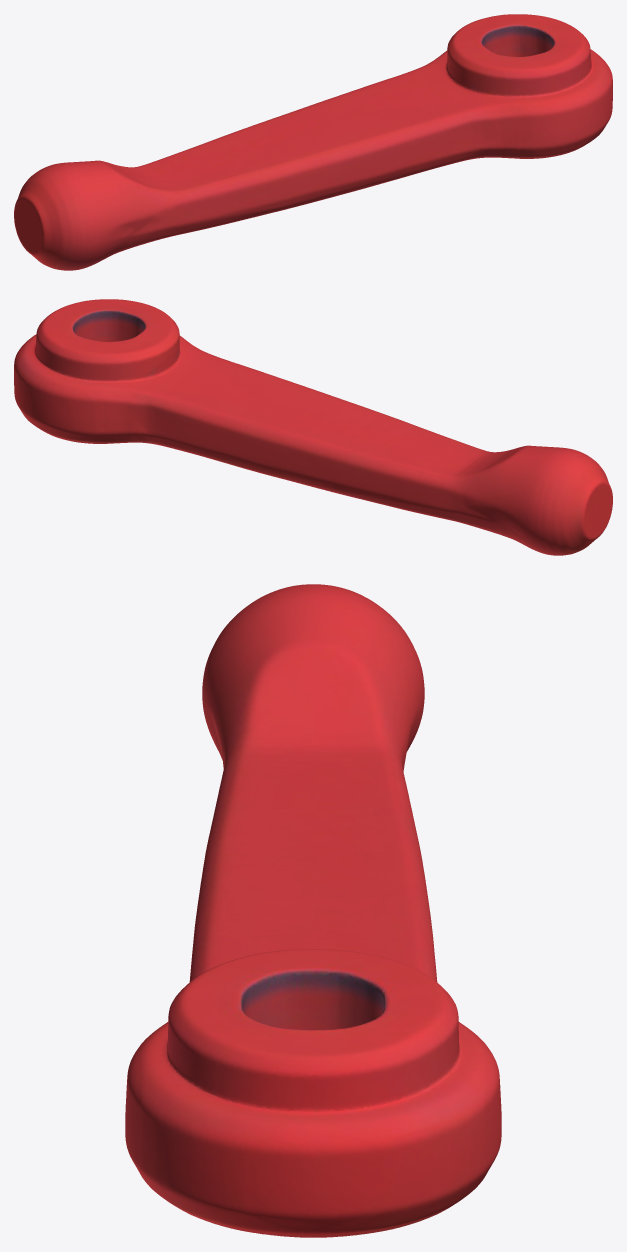
Rendered from ValveLever.glb.
3 renders of one model, top to bottom at view 1: azimuth 30°, elevation 25°; view 2: azimuth 150°, elevation 25°; view 3: azimuth 270°, elevation 25°, orthographic. The views are drawn at different scales.
Parts seen in each view (by area): view 1: tripo_node_14d4c1eb-c01d-449a-a849-398f4a7f8d0f; view 2: tripo_node_14d4c1eb-c01d-449a-a849-398f4a7f8d0f; view 3: tripo_node_14d4c1eb-c01d-449a-a849-398f4a7f8d0f.
Part boxes in pixels (bbox=[...]): tripo_node_14d4c1eb-c01d-449a-a849-398f4a7f8d0f: bbox=[14, 14, 612, 270]; tripo_node_14d4c1eb-c01d-449a-a849-398f4a7f8d0f: bbox=[14, 299, 612, 555]; tripo_node_14d4c1eb-c01d-449a-a849-398f4a7f8d0f: bbox=[125, 584, 501, 1237].
Bounding box in the file's own units: 1 × 0.1912 × 0.2852.
Materials: 1 (1 with a texture image).
